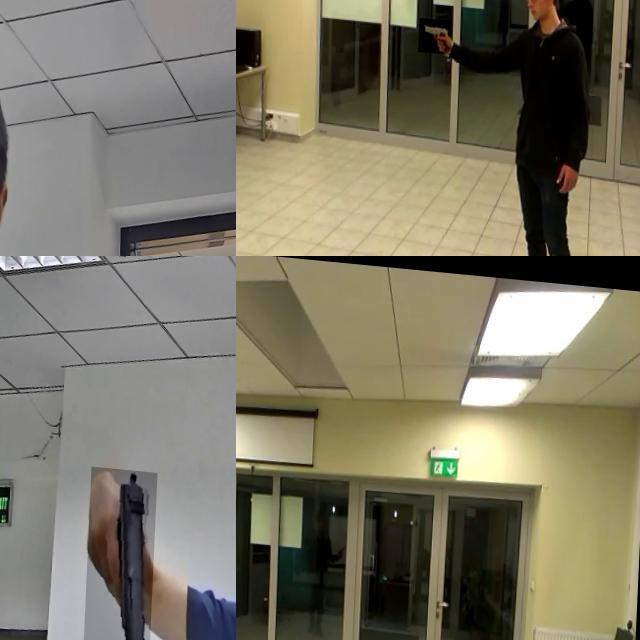gun-knife-thesis - v11 Yolov5 augmented: (86, 461, 160, 640), (422, 13, 456, 50), (236, 583, 256, 637)
